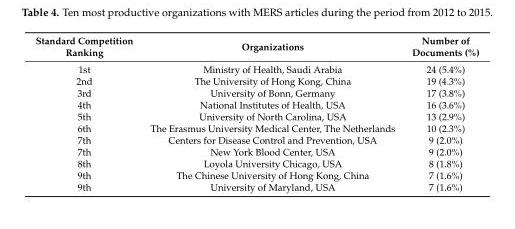table: (34, 34, 478, 192)
table column: (140, 34, 402, 192), (34, 34, 140, 192), (402, 34, 478, 192)
table column header: (34, 34, 478, 60)
table row: (34, 34, 478, 60), (34, 60, 478, 74), (34, 74, 478, 86), (34, 86, 478, 98), (34, 98, 478, 110), (34, 121, 478, 133), (34, 133, 478, 145), (34, 145, 478, 157), (34, 168, 478, 180), (34, 180, 478, 192), (34, 110, 478, 121), (34, 157, 478, 168)
